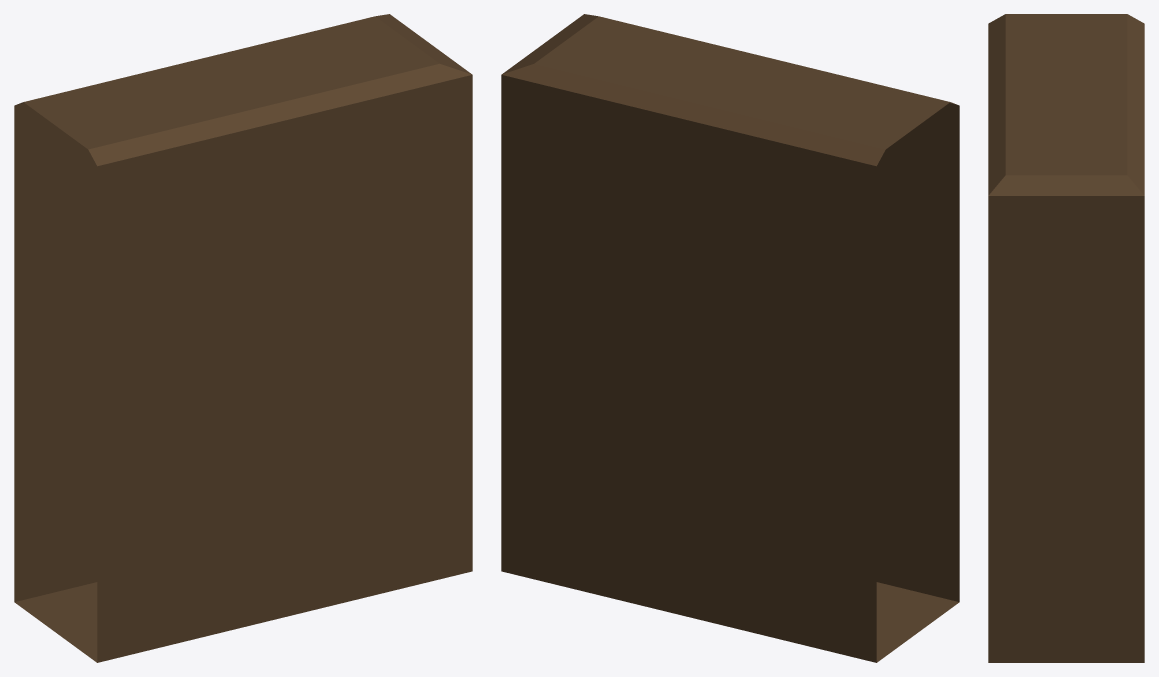
The model's file is Itr_Couch_Outside_Back_Right_04.FBX.
3 views of the same model, side by side, from view 1: azimuth 30°, elevation 25°; view 2: azimuth 150°, elevation 25°; view 3: azimuth 270°, elevation 25° (orthographic). The views are drawn at different scales.
Parts seen in each view (by area): view 1: Itr_Couch_Outside_Back_Right_04; view 2: Itr_Couch_Outside_Back_Right_04; view 3: Itr_Couch_Outside_Back_Right_04.
Part boxes in pixels (<box>): Itr_Couch_Outside_Back_Right_04: <box>14,14,472,662</box>; Itr_Couch_Outside_Back_Right_04: <box>501,14,959,662</box>; Itr_Couch_Outside_Back_Right_04: <box>988,14,1144,662</box>.
Size of the model in its own units: 18.79 by 24.24 by 7.19.
